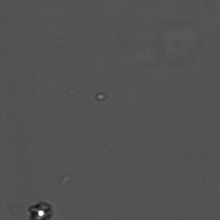Living Cell: (26, 199, 54, 218)
